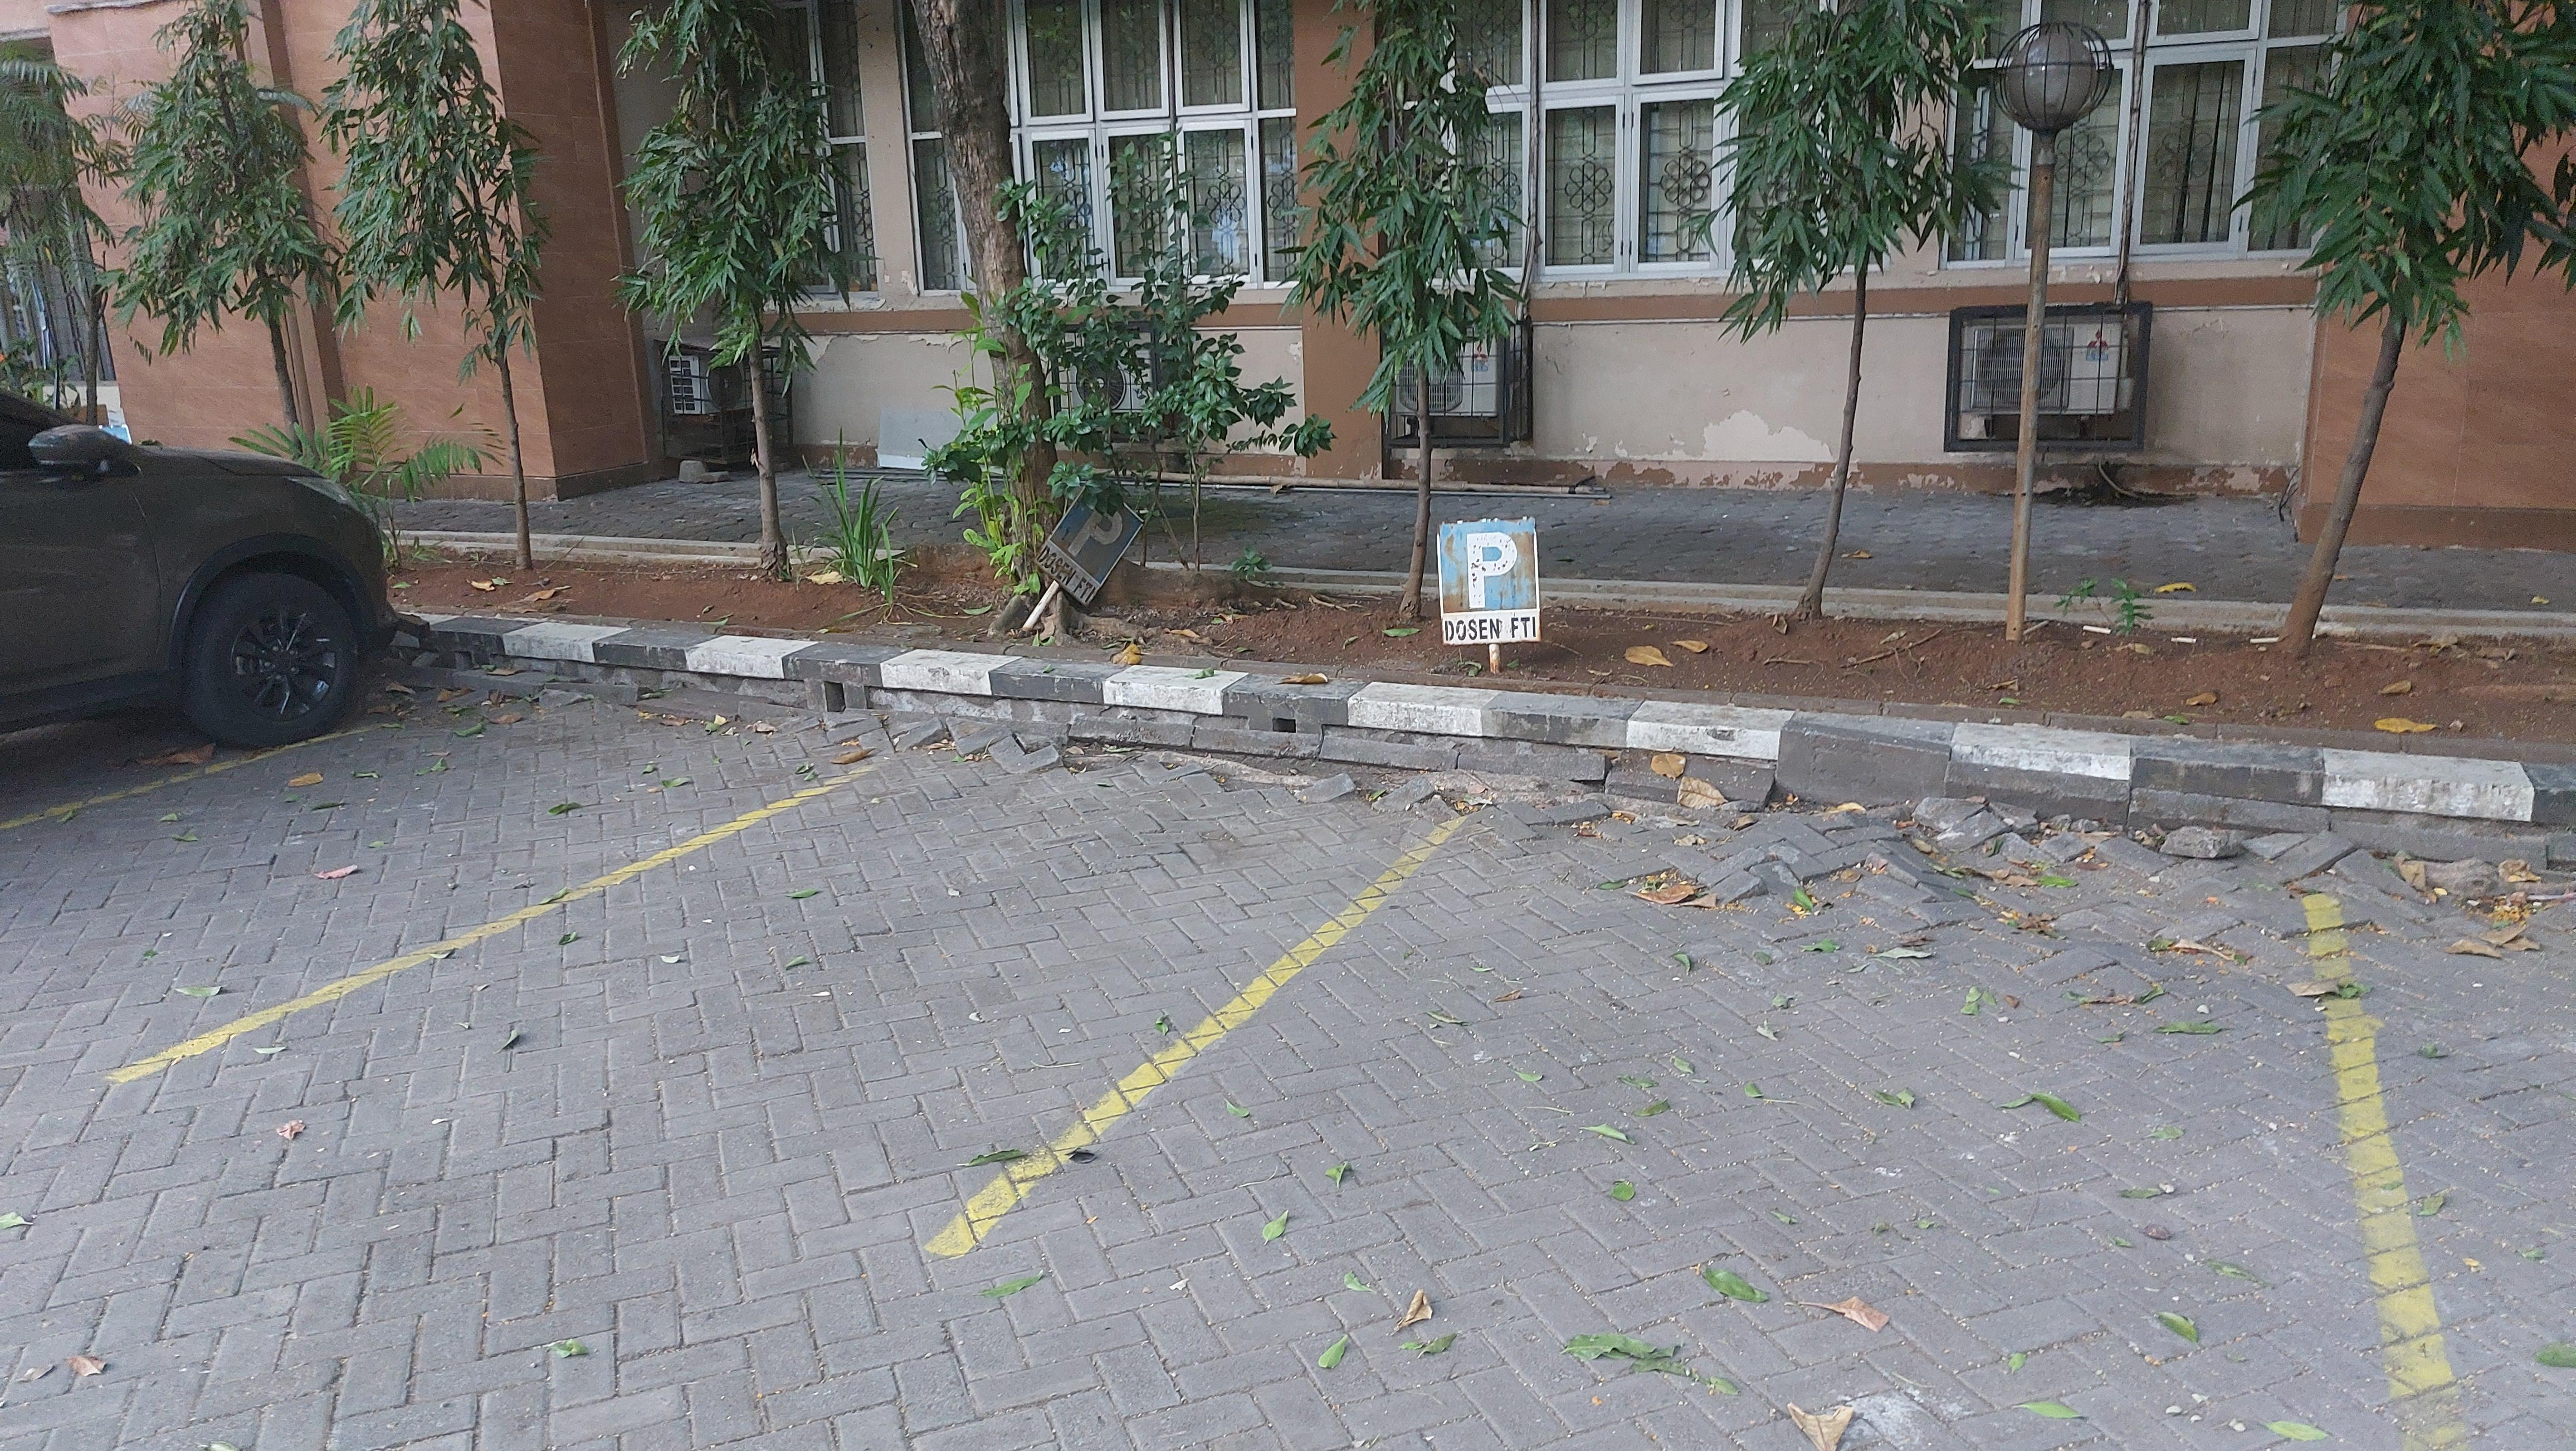empty: (958, 800, 2431, 1394), (108, 750, 1468, 1243)
